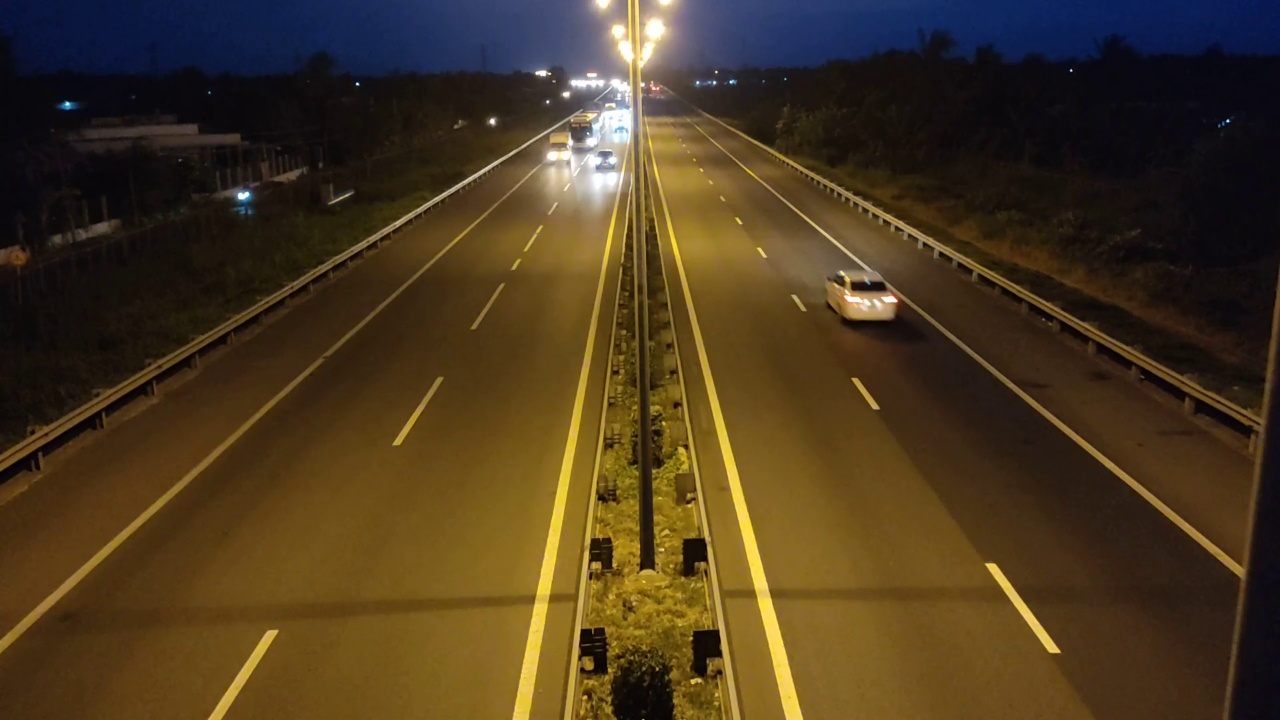car: (825, 267, 900, 323), (592, 150, 618, 170)
